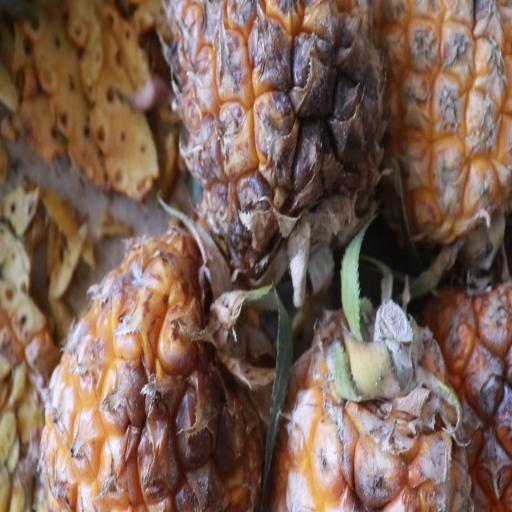Pineapple - v8 v1: (35, 215, 278, 512), (174, 0, 398, 272), (264, 281, 479, 512), (371, 2, 512, 250)
